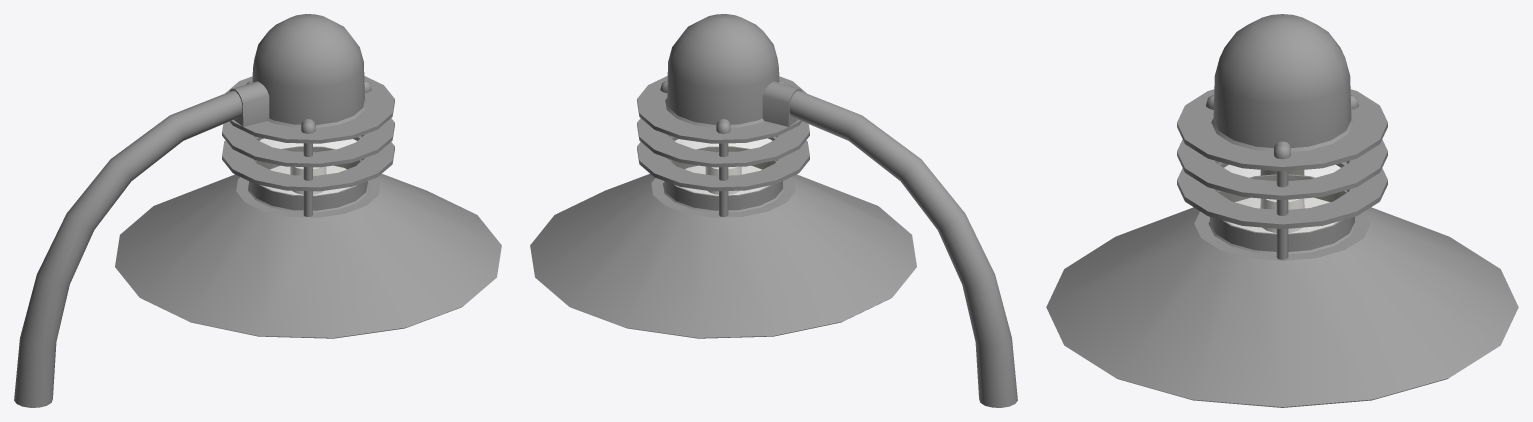
File: Nyhavn_Park.glb
The picture shows the model from 3 angles, left to right: view 1: azimuth 30°, elevation 25°; view 2: azimuth 150°, elevation 25°; view 3: azimuth 270°, elevation 25°; orthographic projection. The views are drawn at different scales.
Parts seen in each view (by area): view 1: BezierCurve.002, BezierCurve, Glas, Cylinder.002, Cylinder.001; view 2: BezierCurve.002, BezierCurve, Glas, Cylinder.002, Cylinder.001; view 3: BezierCurve.002, Glas, Cylinder.001, Sphere.
Boxes of the visible parts, x1=… form: BezierCurve.002: x1=115, y1=14, x2=501, y2=338; BezierCurve: x1=14, y1=90, x2=242, y2=407; Glas: x1=254, y1=135, x2=363, y2=194; Cylinder.002: x1=229, y1=81, x2=269, y2=126; Cylinder.001: x1=254, y1=134, x2=364, y2=216; BezierCurve.002: x1=530, y1=14, x2=916, y2=338; BezierCurve: x1=789, y1=90, x2=1017, y2=407; Glas: x1=668, y1=135, x2=777, y2=194; Cylinder.002: x1=762, y1=81, x2=802, y2=126; Cylinder.001: x1=667, y1=134, x2=777, y2=216; BezierCurve.002: x1=1046, y1=14, x2=1518, y2=407; Glas: x1=1215, y1=161, x2=1349, y2=232; Cylinder.001: x1=1215, y1=160, x2=1349, y2=259; Sphere: x1=1206, y1=95, x2=1358, y2=159.
Size of the model in its own units: 1.04 by 0.6746 by 0.7613.
Materials: 4 (2 with a texture image).
